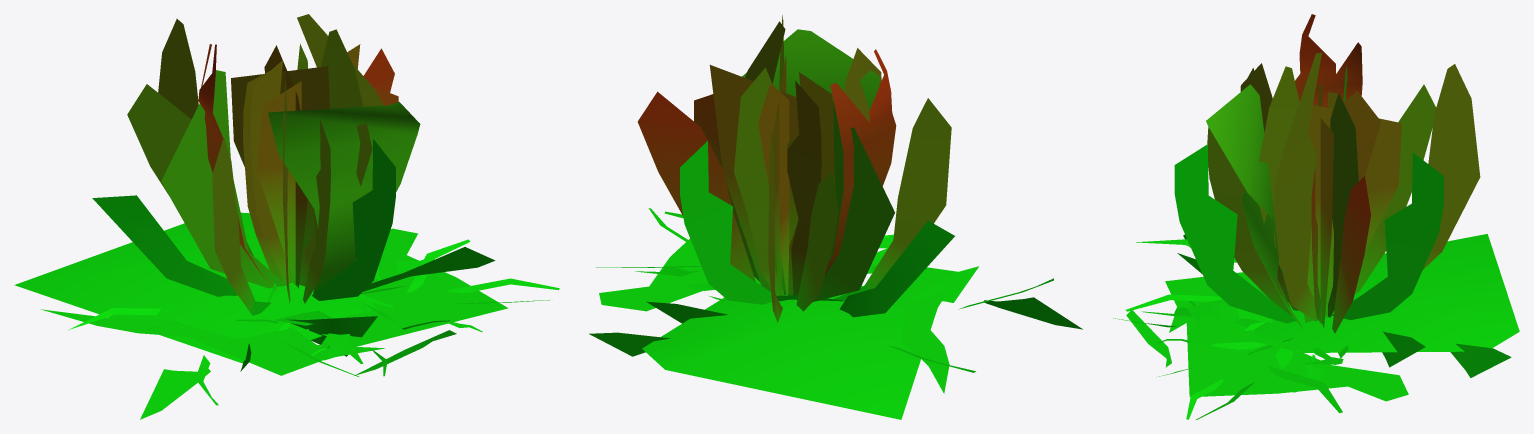
The model's file is Dead Shrubs_LOD1_Var3_vdknafgha.fbx.
3 renders of one model, left to right at view 1: azimuth 30°, elevation 25°; view 2: azimuth 150°, elevation 25°; view 3: azimuth 270°, elevation 25°, orthographic.
Visible parts, largest first — view 1: _p0az_Var3_LOD1; view 2: _p0az_Var3_LOD1; view 3: _p0az_Var3_LOD1.
Part boxes in pixels (left/top/right/bottom): _p0az_Var3_LOD1: left=14, top=14, right=559, bottom=419; _p0az_Var3_LOD1: left=589, top=15, right=1082, bottom=419; _p0az_Var3_LOD1: left=1113, top=14, right=1519, bottom=419.
Bounding box in the file's own units: 71.32 × 48.51 × 59.5.
